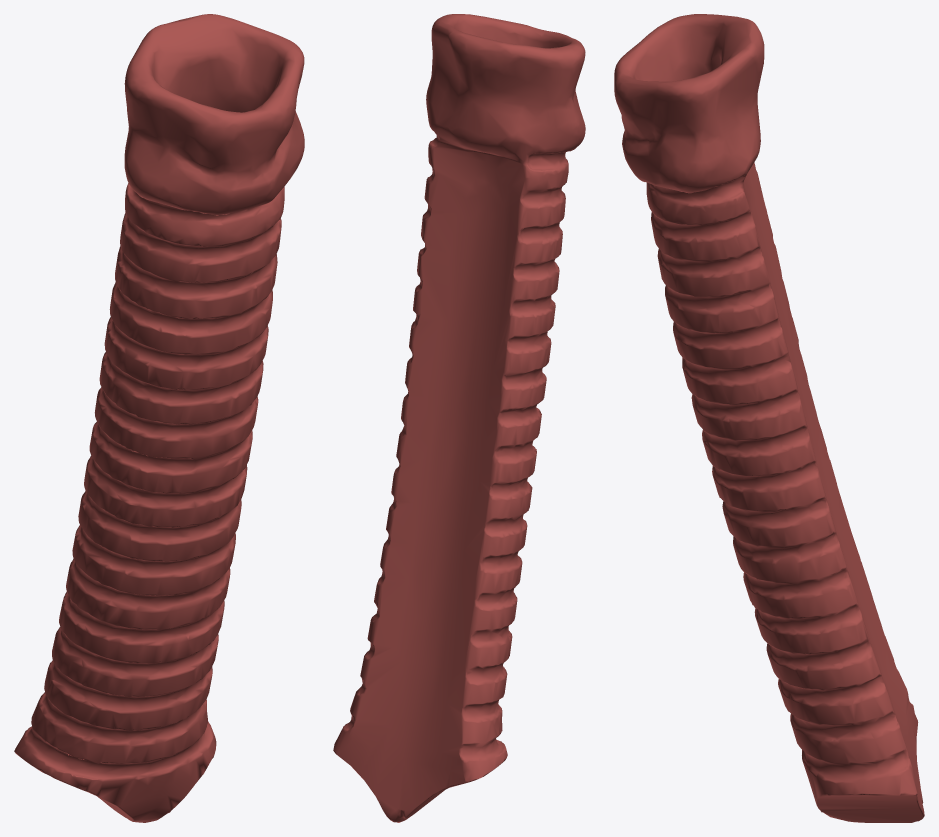
File: FMA7394.glb
The picture shows the model from 3 angles, left to right: view 1: azimuth 30°, elevation 25°; view 2: azimuth 150°, elevation 25°; view 3: azimuth 270°, elevation 25°; orthographic projection. The views are drawn at different scales.
Parts seen in each view (by area): view 1: FMA7394; view 2: FMA7394; view 3: FMA7394.
Boxes of the visible parts, bbox=[...] form: FMA7394: bbox=[14, 14, 304, 822]; FMA7394: bbox=[333, 14, 585, 822]; FMA7394: bbox=[614, 14, 924, 822].
Bounding box in the file's own units: 0.0258 × 0.1178 × 0.0421.
